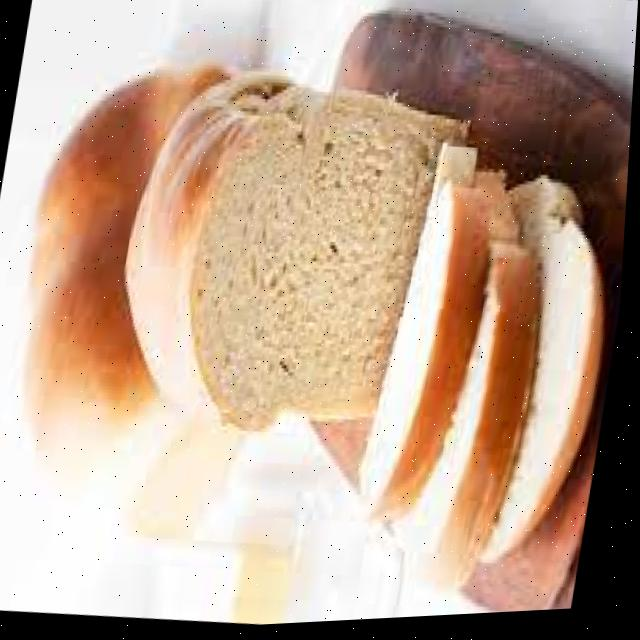Bread: (129, 80, 468, 432), (402, 243, 542, 587), (489, 181, 607, 567), (365, 184, 489, 523)
